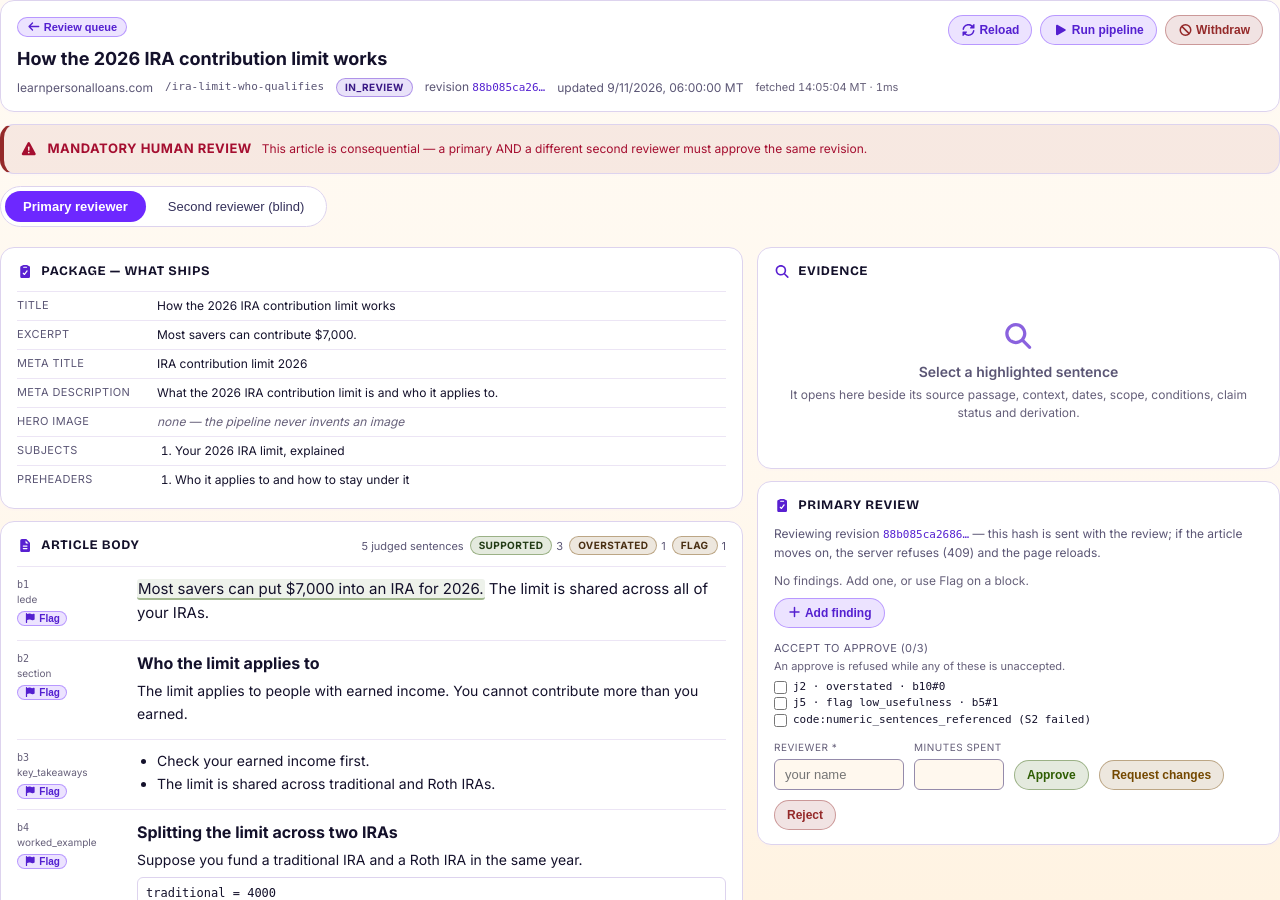
article view — GET articles/{id} › a 422 blocked approve shows the server blockers
The width and height of the screenshot is (1280, 900).
Expected: the element with test id "accept-list" is shown, [774,641,1091,727]
In the field labelled "reviewer": (839, 775) [774,759,904,790], type "bo"
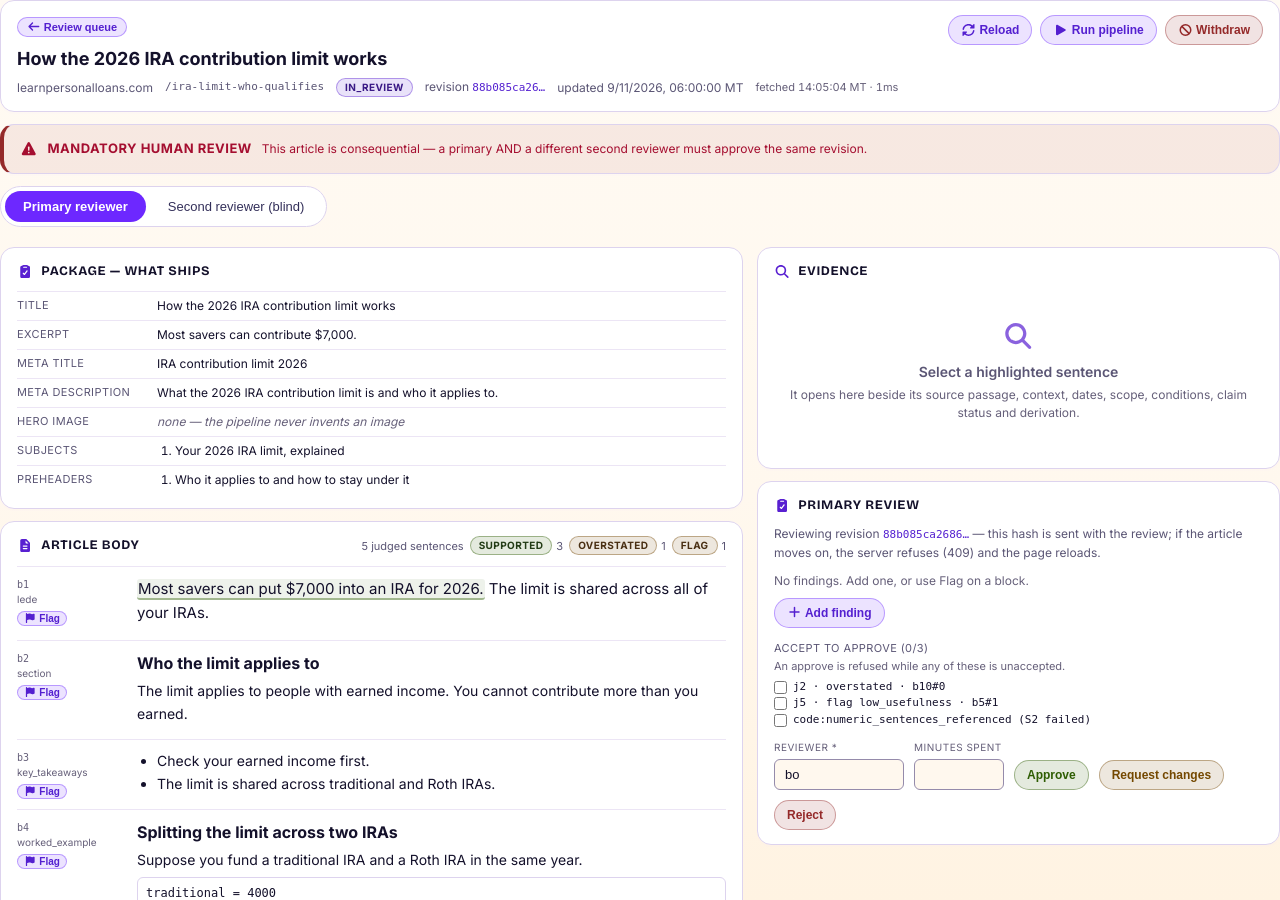
In the number field labelled "minutes spent": (959, 775) [914,759,1004,790], type "3"
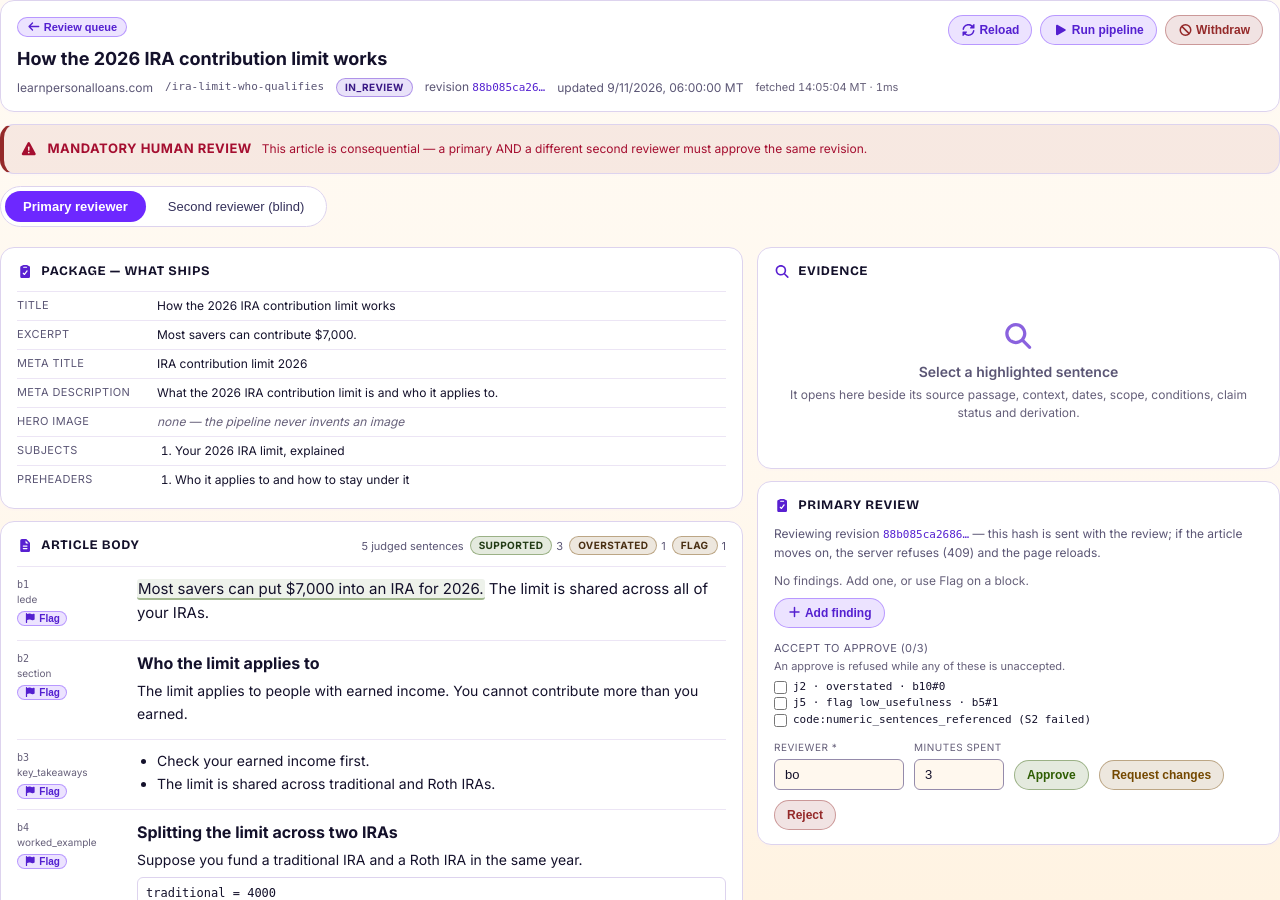
Click the button "Approve": (1051, 775) [1014,760,1089,790]
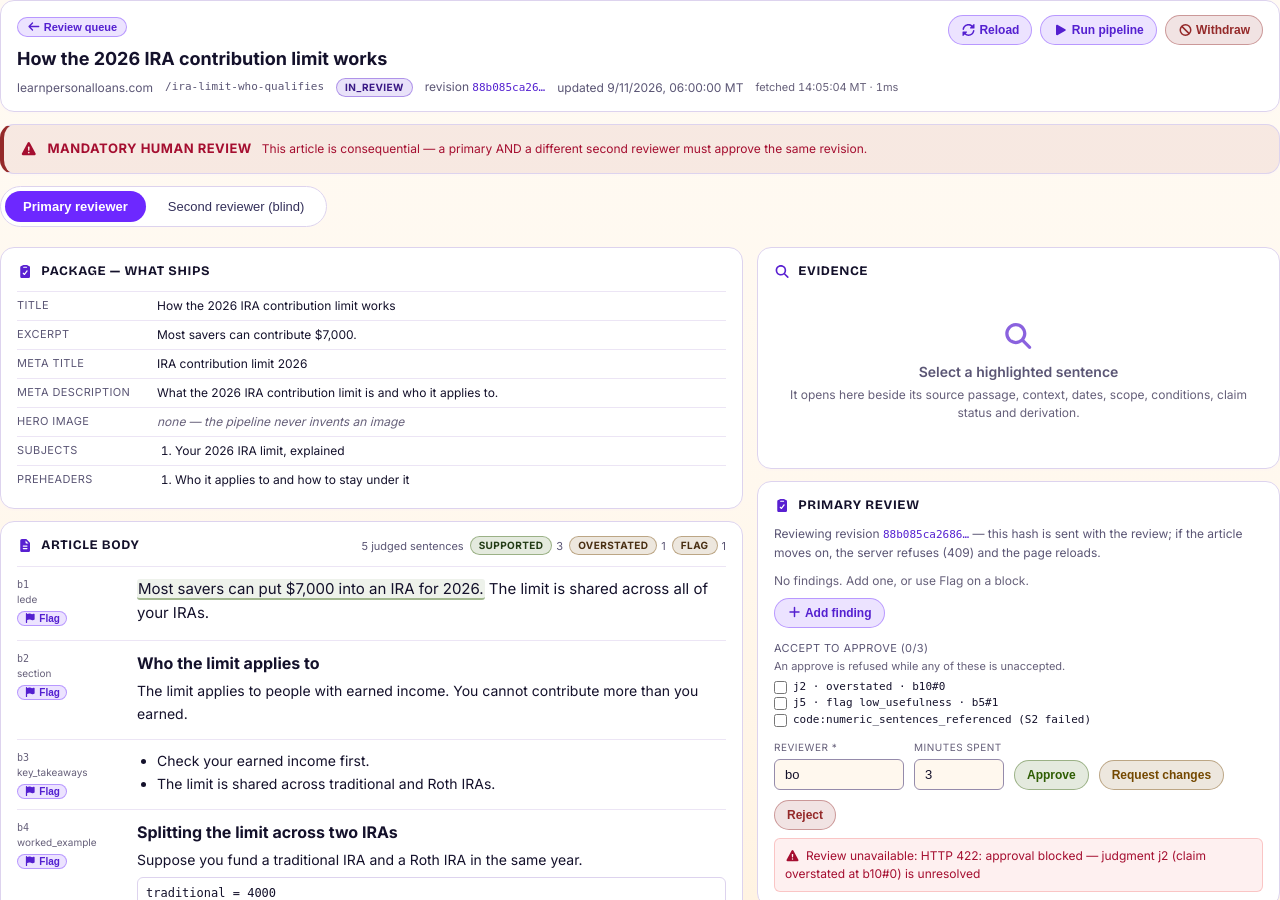
Result: the text "judgment j2 (claim overstated at b10#0) is unresolved" is shown at [785,848,1206,881]
